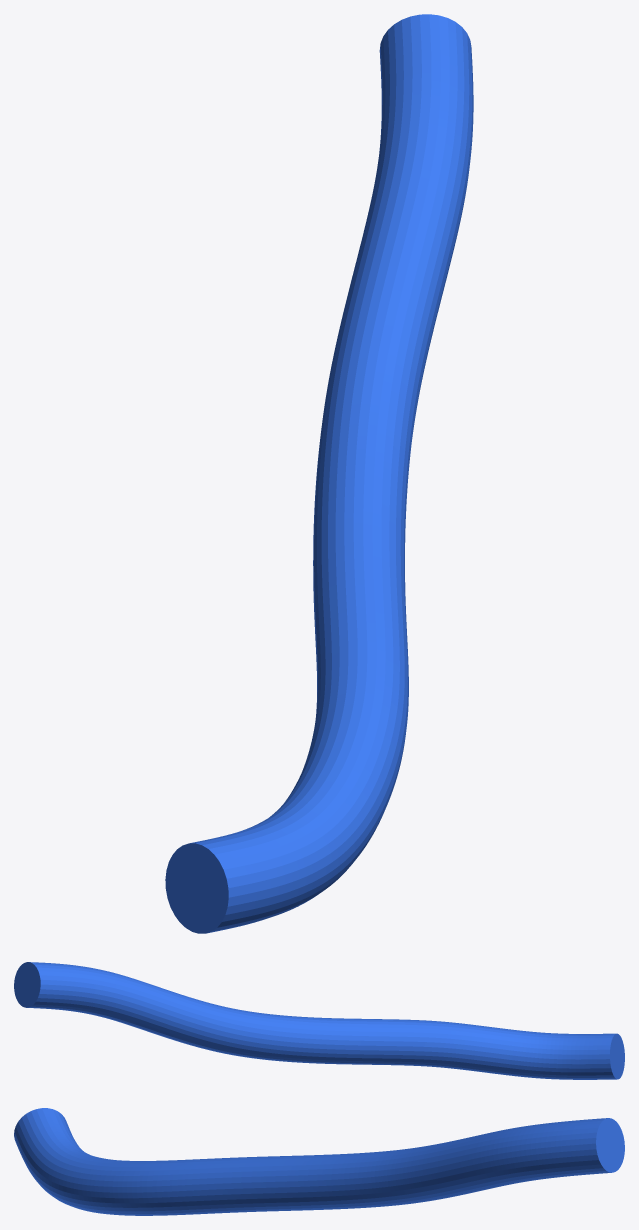
The model's file is faces31 - linechin.glb.
The picture shows the model from 3 angles, top to bottom: view 1: azimuth 30°, elevation 25°; view 2: azimuth 150°, elevation 25°; view 3: azimuth 270°, elevation 25°; orthographic projection. The views are drawn at different scales.
Visible parts, largest first — view 1: Tube; view 2: Tube; view 3: Tube.
Boxes of the visible parts, x1,y1,x2,y2 form: Tube: (165, 14, 473, 933); Tube: (14, 962, 624, 1079); Tube: (14, 1108, 624, 1215).
Bounding box in the file's own units: 0.3863 × 0.2033 × 0.4549.
